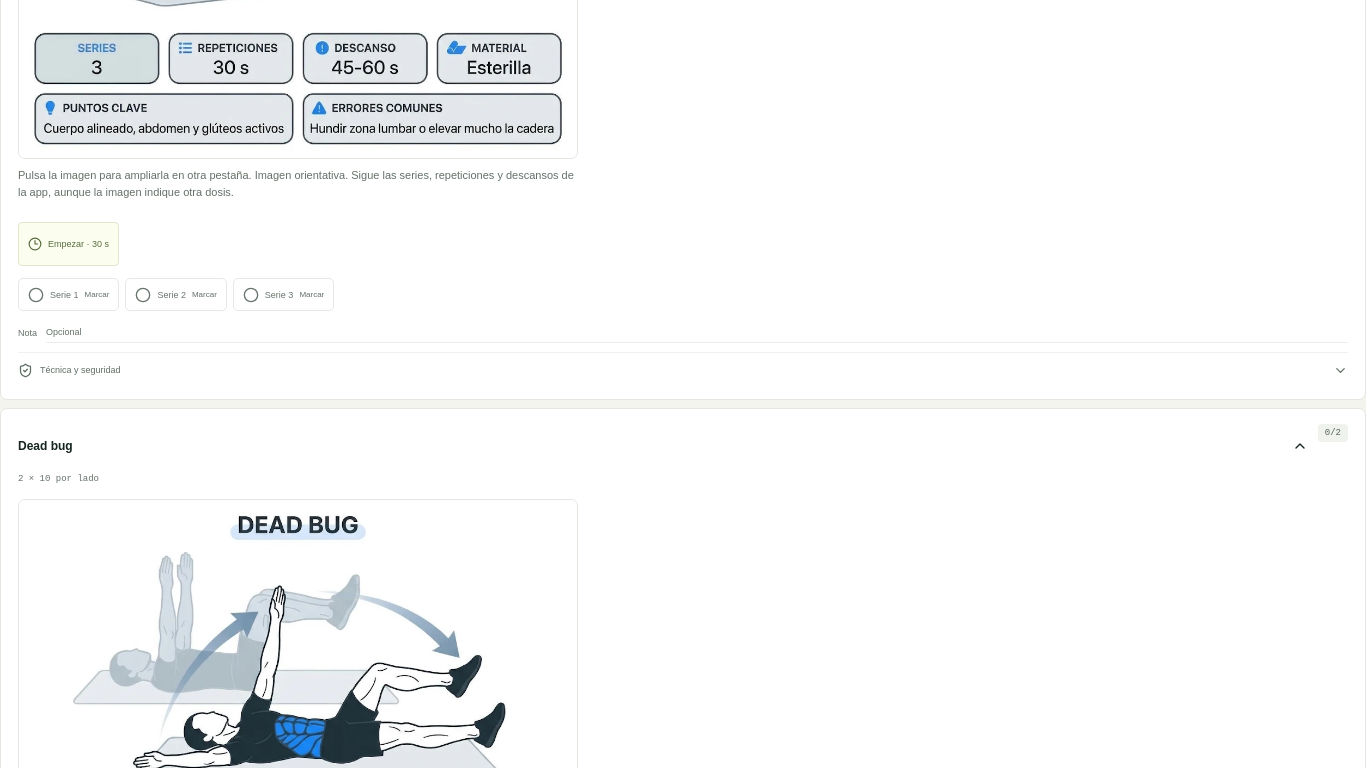
Scenario: workout countdown integration › replaces an exercise countdown with a rest countdown in the relevant card
The width and height of the screenshot is (1366, 768).
(page scrolled)
Click the button "Empezar · 30 s": (68,244) [18, 222, 119, 266]
(page scrolled)
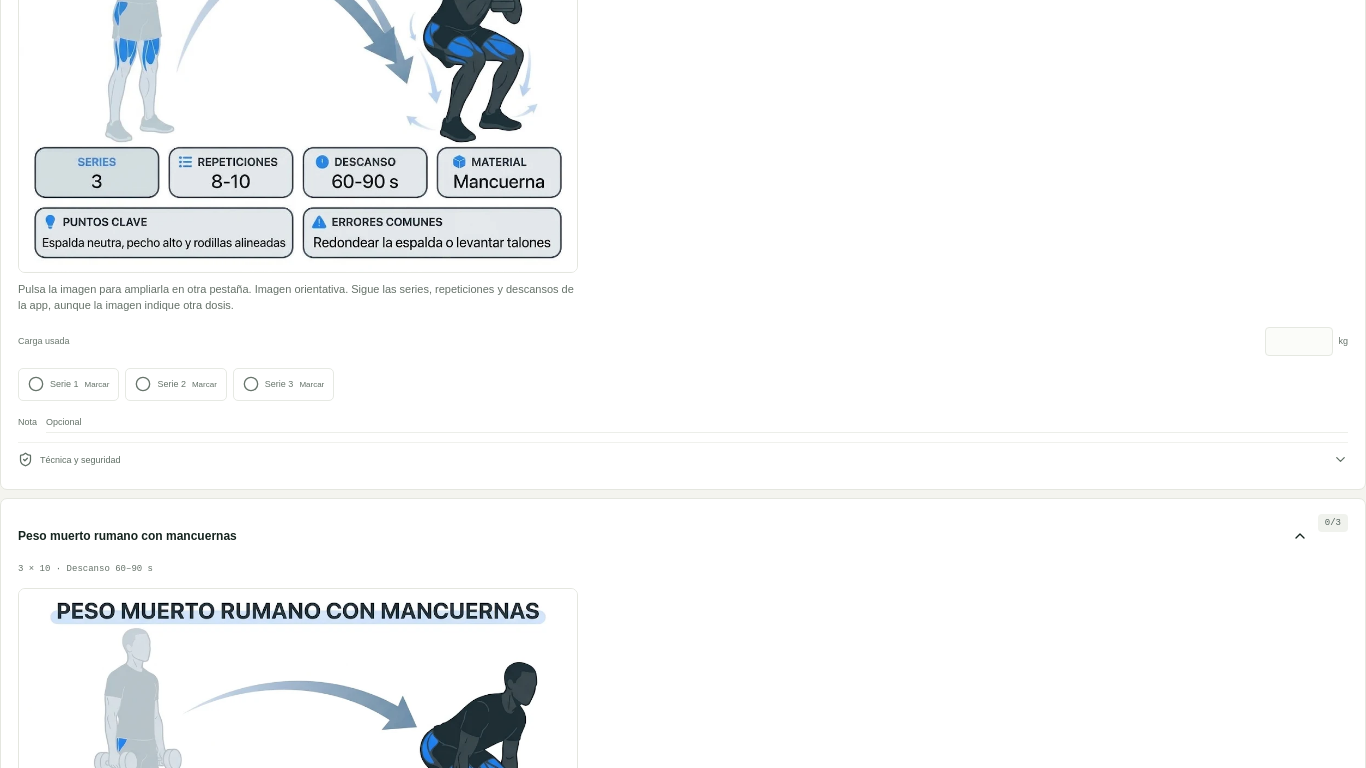
Click the button "Serie 1 Marcar": (69,384) [18, 368, 119, 401]
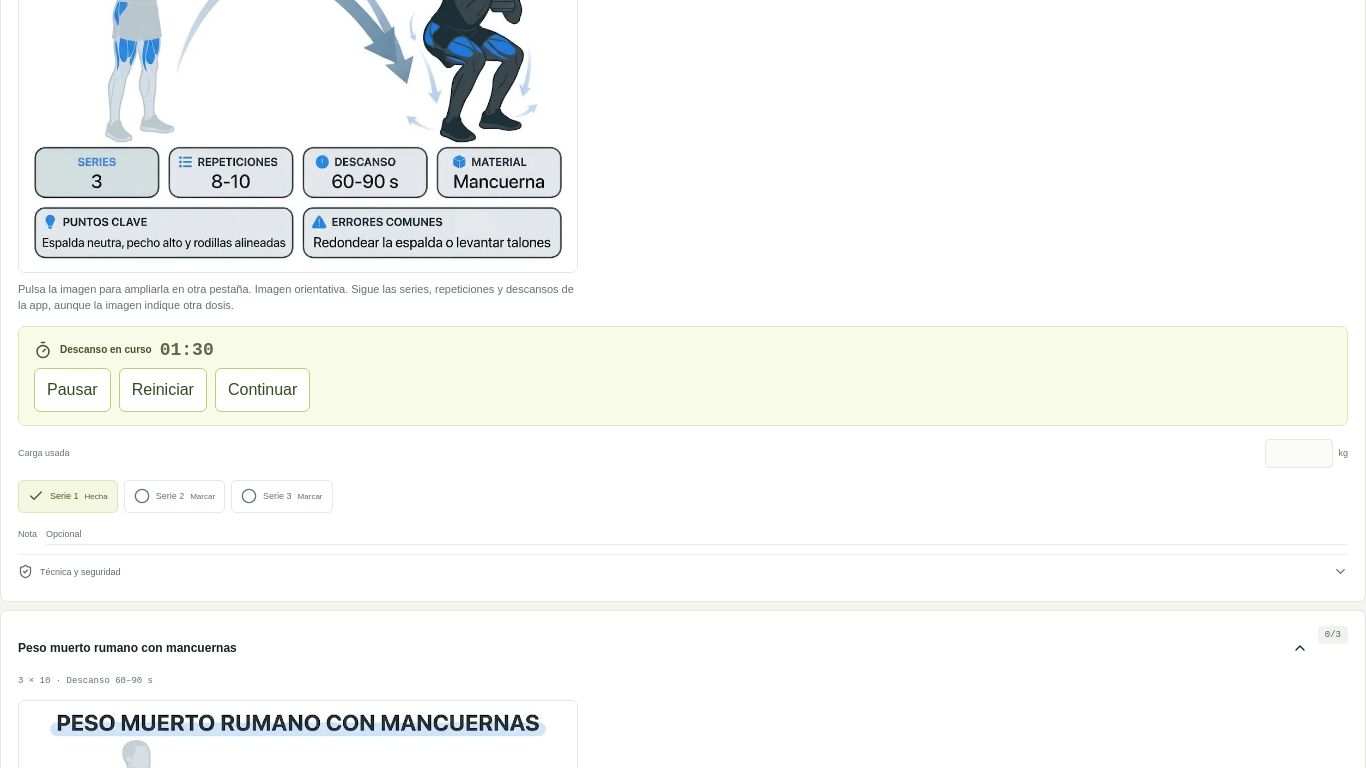
Expected: the text "01:30" is shown, [160, 340, 214, 360]
Click the button "Pausar": (72,390) [34, 368, 111, 412]
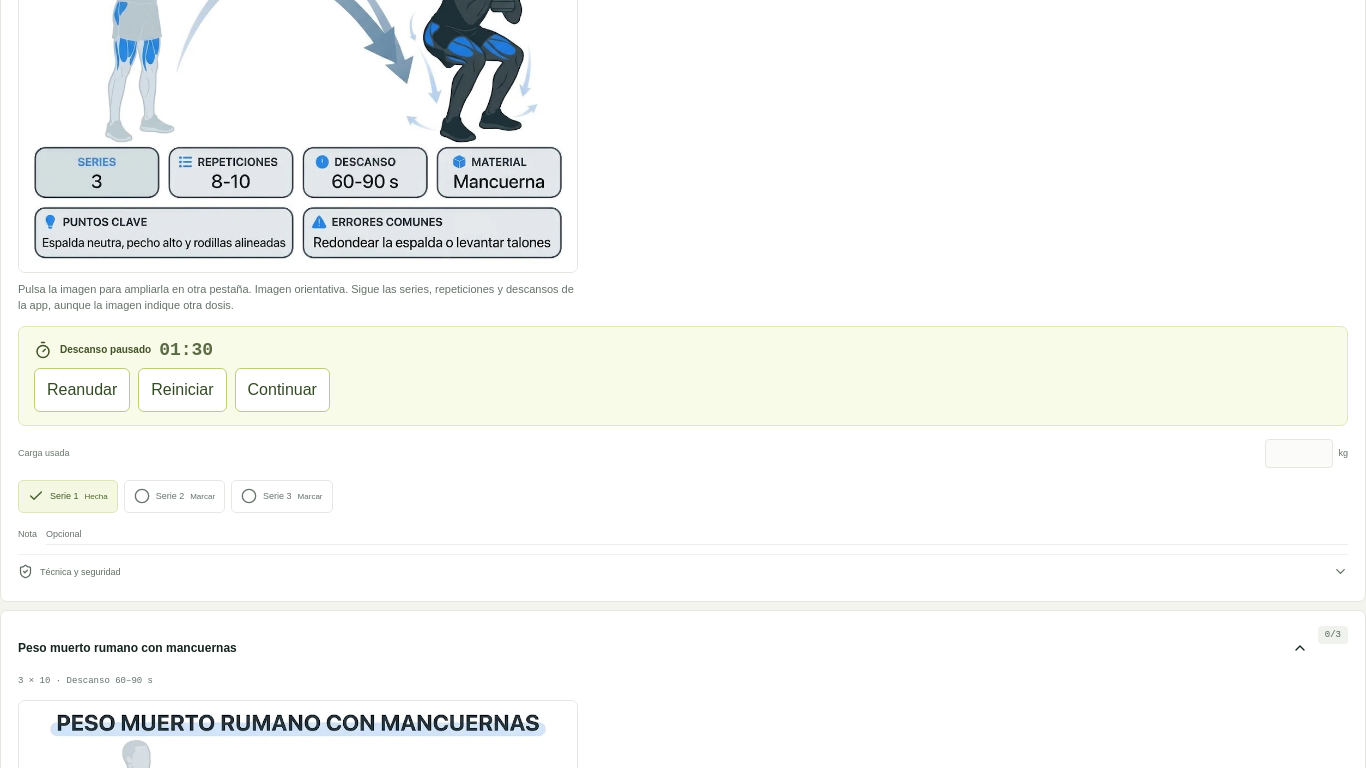
Expected: the message reads "Descanso pausado", [60, 344, 151, 355]
Click the button "Continuar": (282,390) [234, 368, 330, 412]
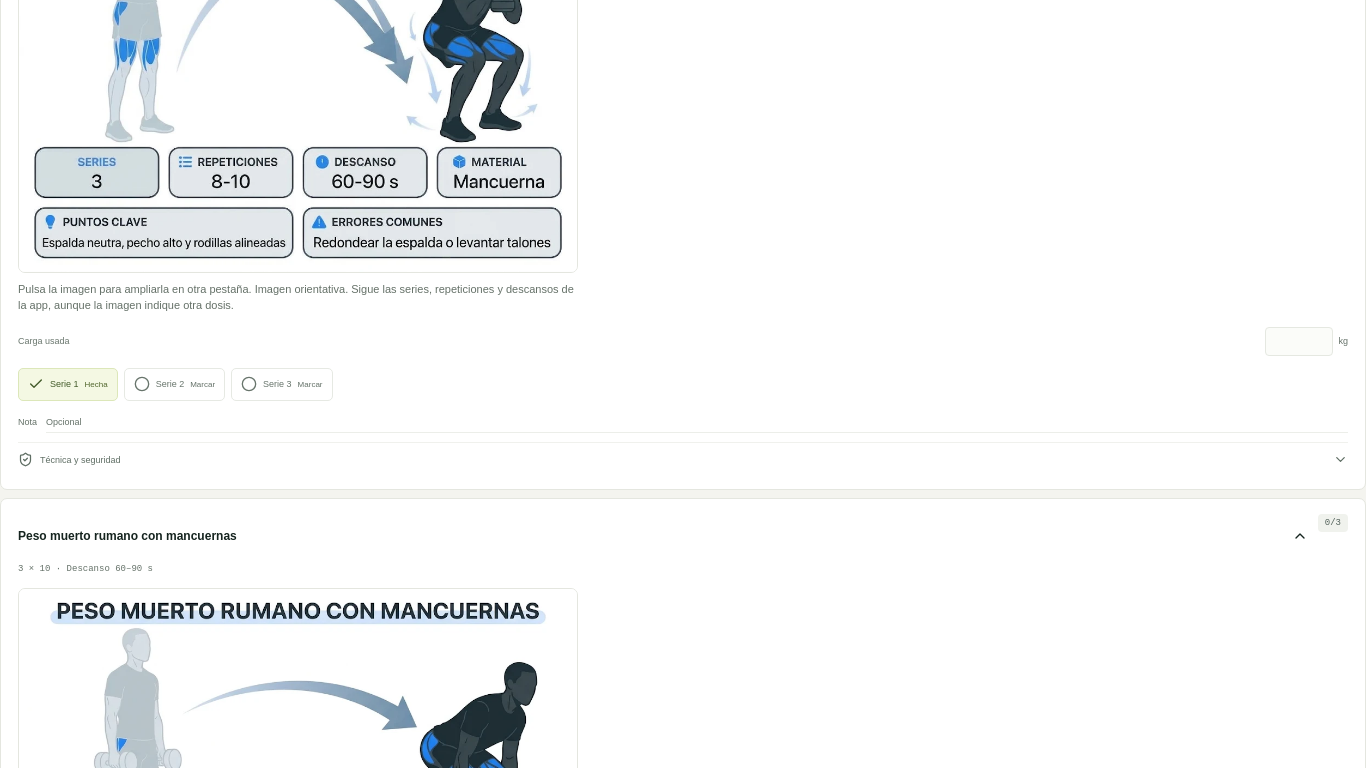
Expected: the button "Serie 1 Hecha" is pressed, [18, 368, 118, 401]
